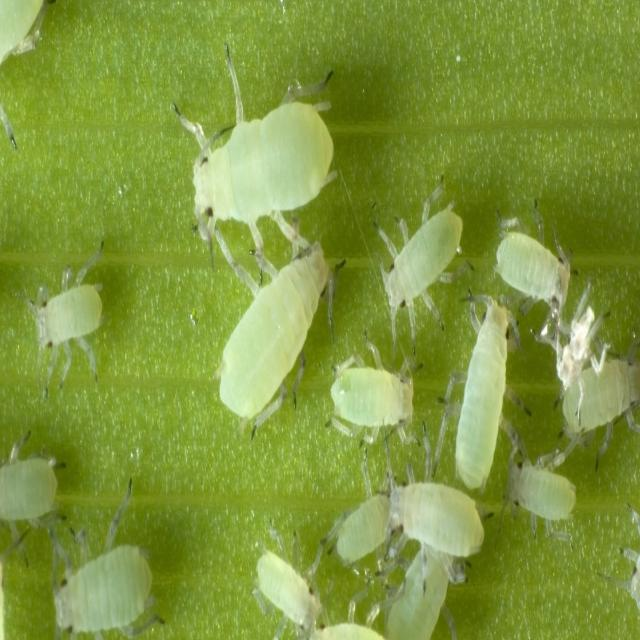Aphid: (166, 35, 342, 248), (214, 232, 356, 434), (43, 513, 164, 640), (374, 171, 462, 335), (29, 263, 118, 382), (242, 521, 322, 640), (507, 445, 588, 560), (560, 334, 639, 446), (0, 422, 75, 538)
